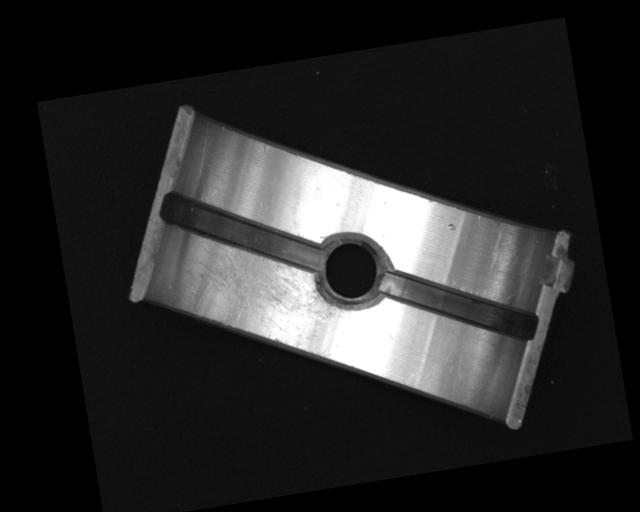bruise: (445, 221, 457, 232)
gap: (161, 171, 322, 291), (378, 250, 538, 361)
hole: (313, 229, 391, 314)
nick: (483, 224, 512, 270)
scratch: (187, 220, 351, 370)
